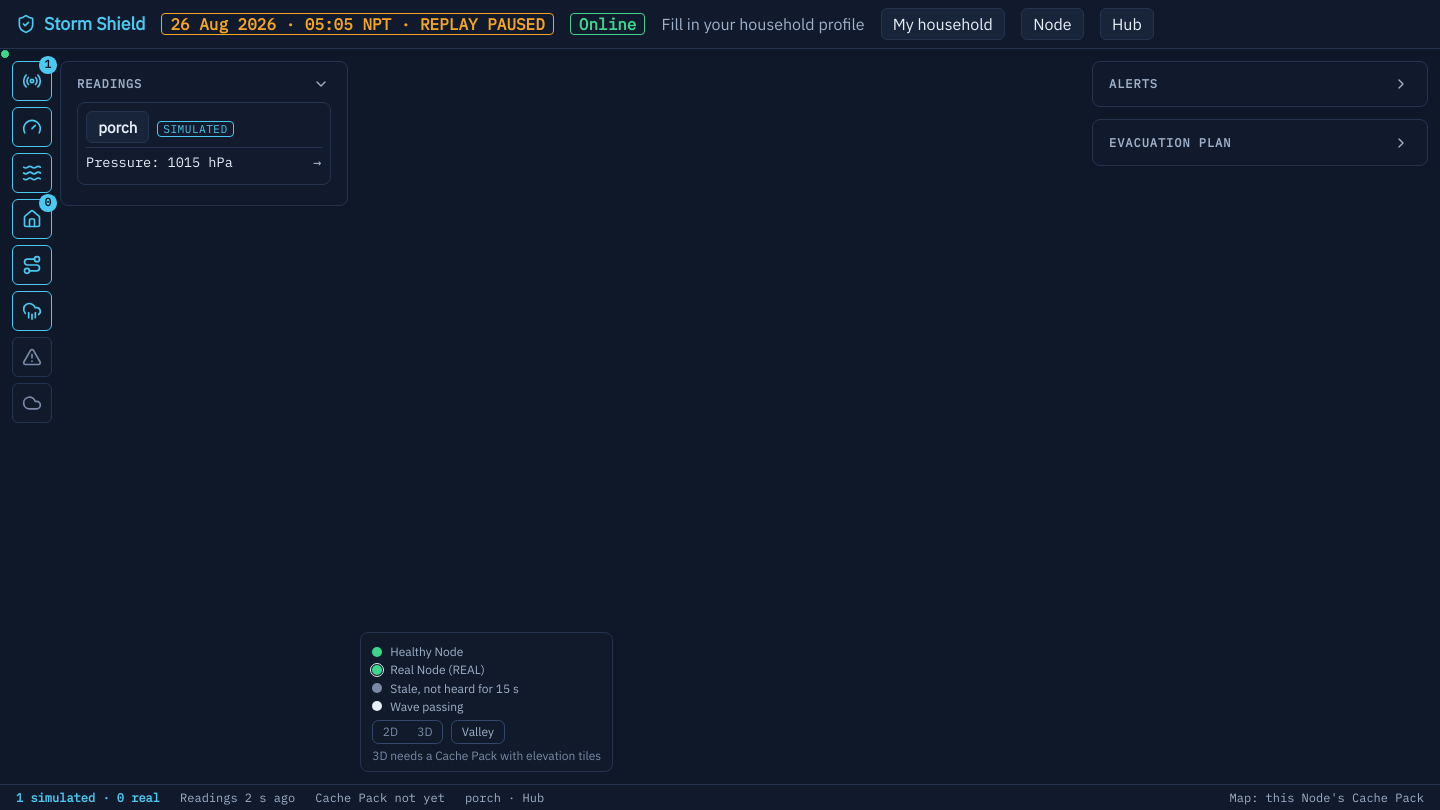
the Panels › hides a Panel's content when it is collapsed and brings it back when expanded
Expected: the text "Pressure: 1015 hPa" is shown, left=86, top=153, right=233, bottom=171
What coordinates should you click on to do the following:
click the button named "Collapse Readings"
I would click on:
 (321, 84)
Its box is left=310, top=74, right=331, bottom=94.
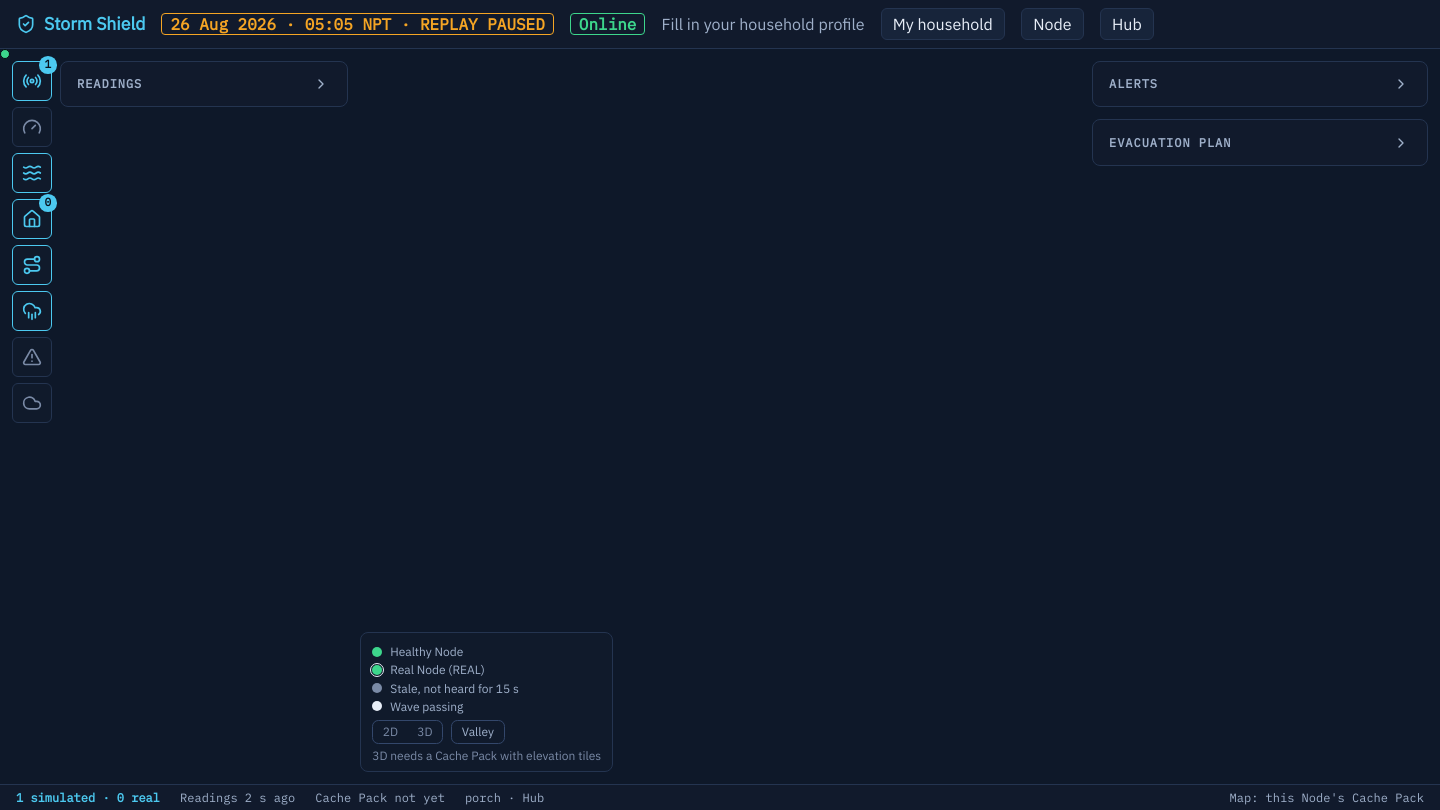
Now the text "Pressure: 1015 hPa" is gone
What coordinates should you click on to do the following:
click the button named "Expand Readings"
I would click on:
 (321, 84)
Its box is left=310, top=74, right=331, bottom=94.
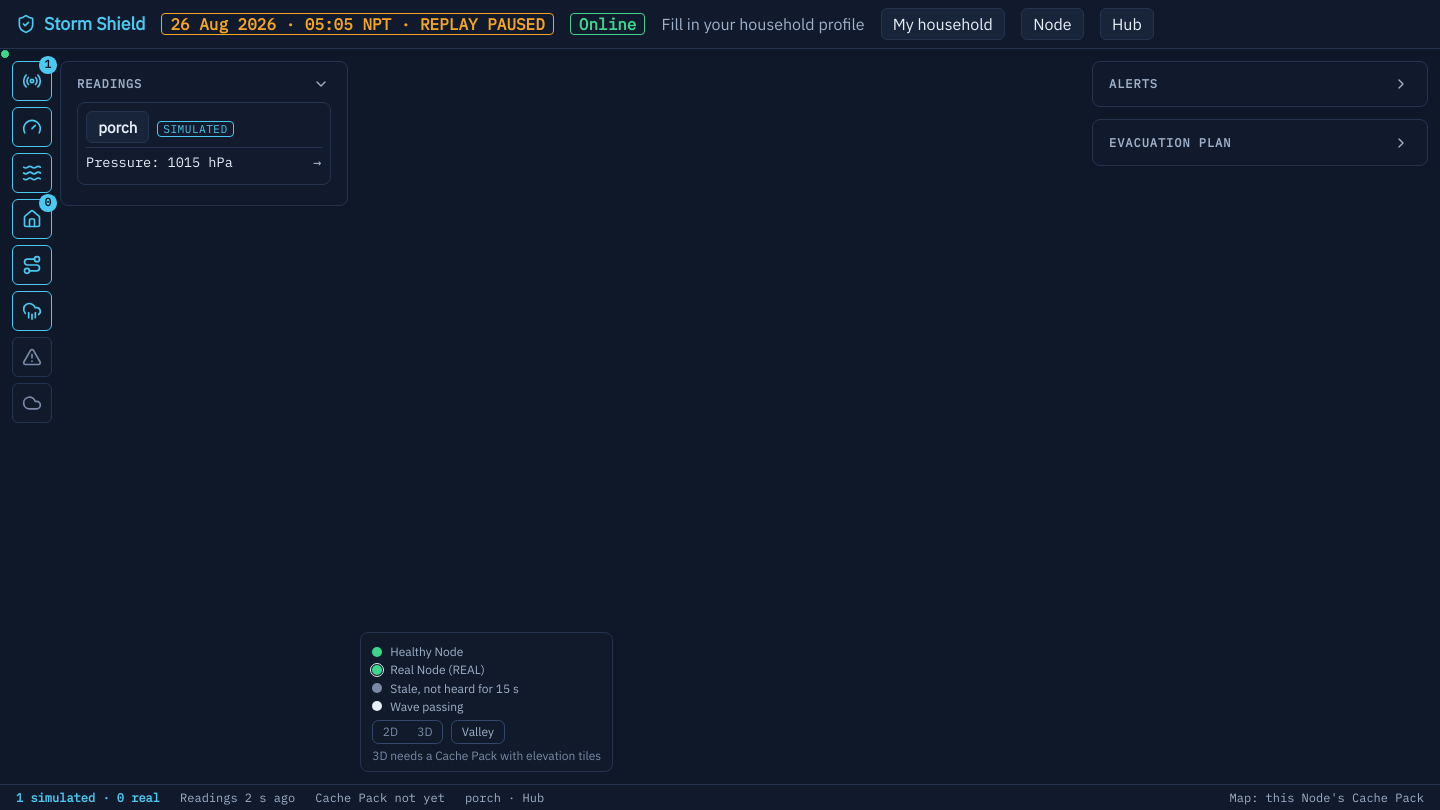
Now the text "Pressure: 1015 hPa" is shown, box left=86, top=153, right=233, bottom=171
